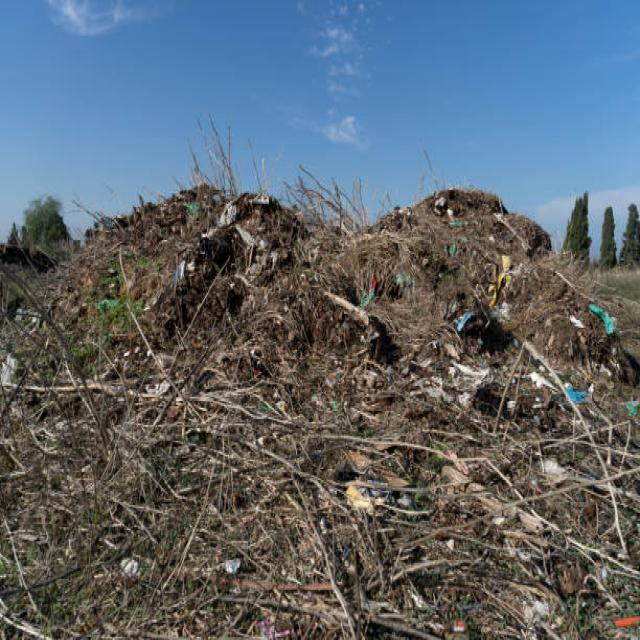trash: (190, 175, 534, 576)
